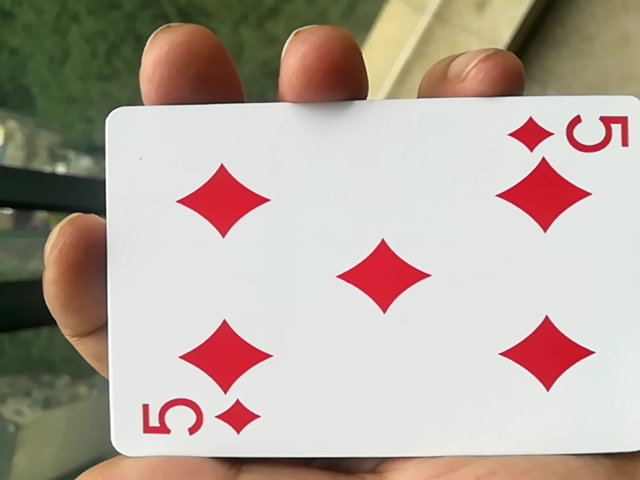fk 5: (84, 95, 636, 470)
